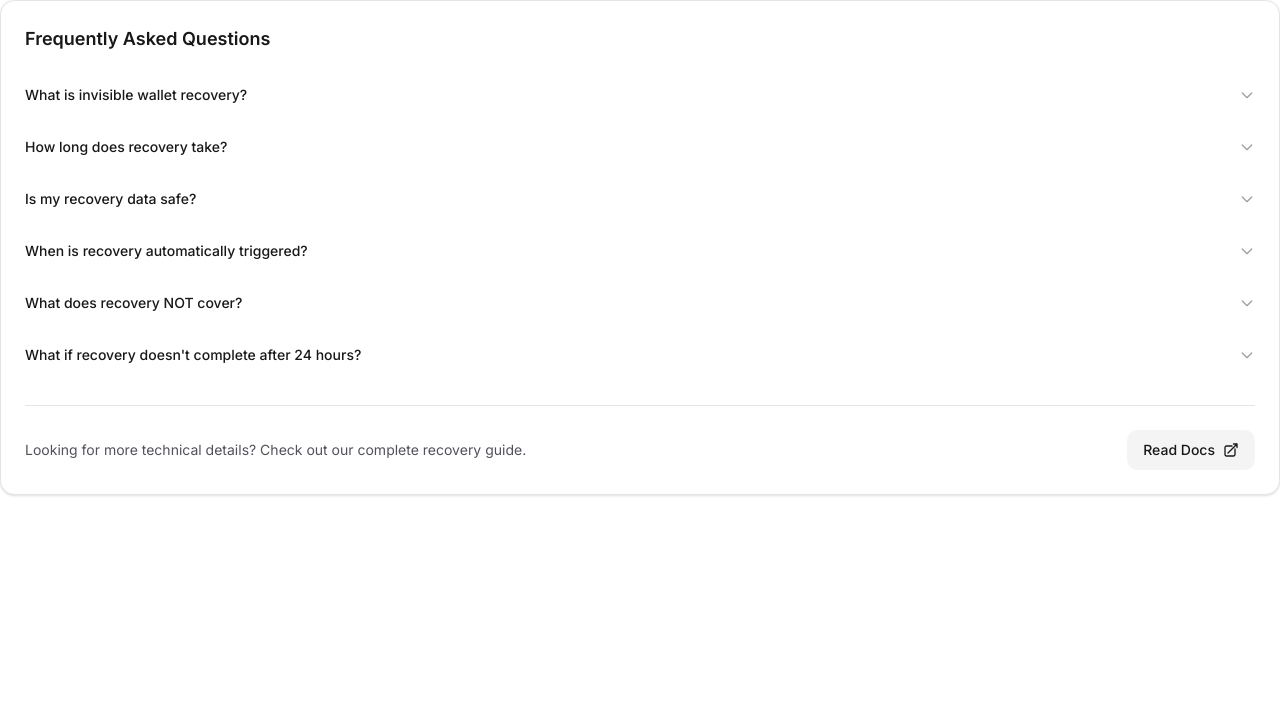
Scenario: RecoveryFAQ › expands and collapses FAQ items
Click the button "What is invisible wallet recovery?" at point(136, 94), box [25, 69, 1255, 121]
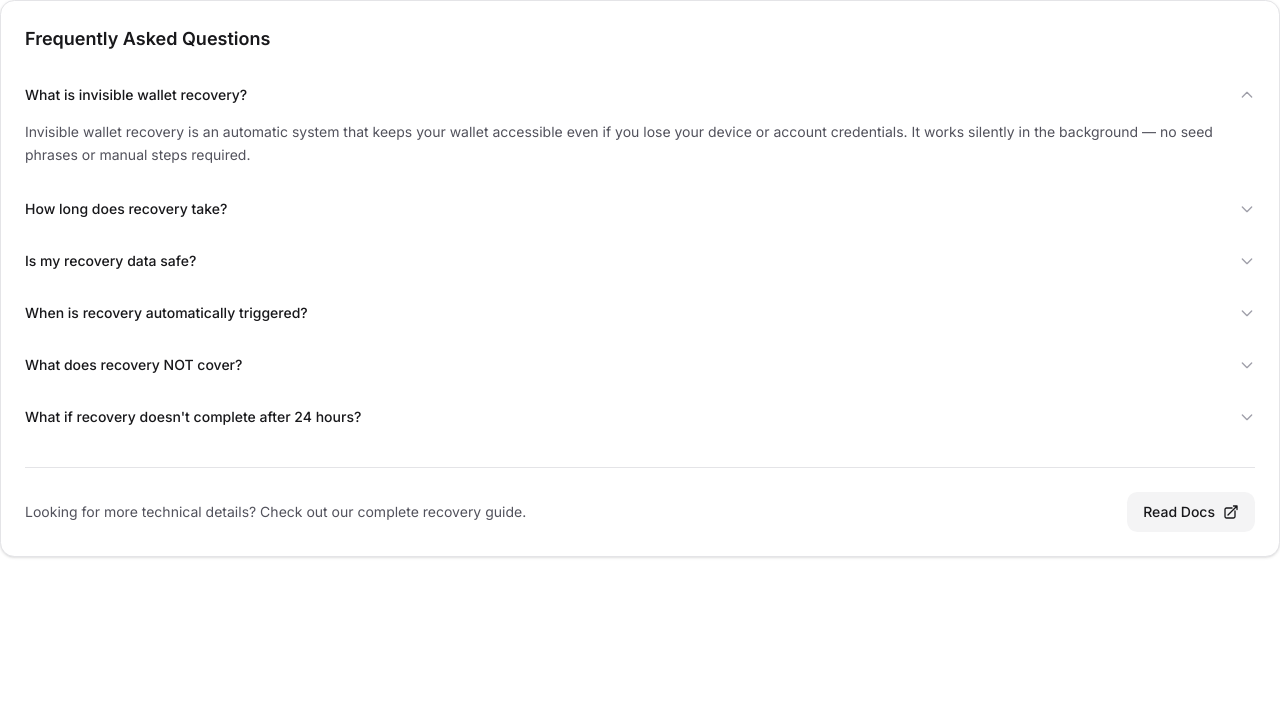
Expected: the button "What is invisible wallet recovery?" is expanded, [25, 69, 1255, 121]
